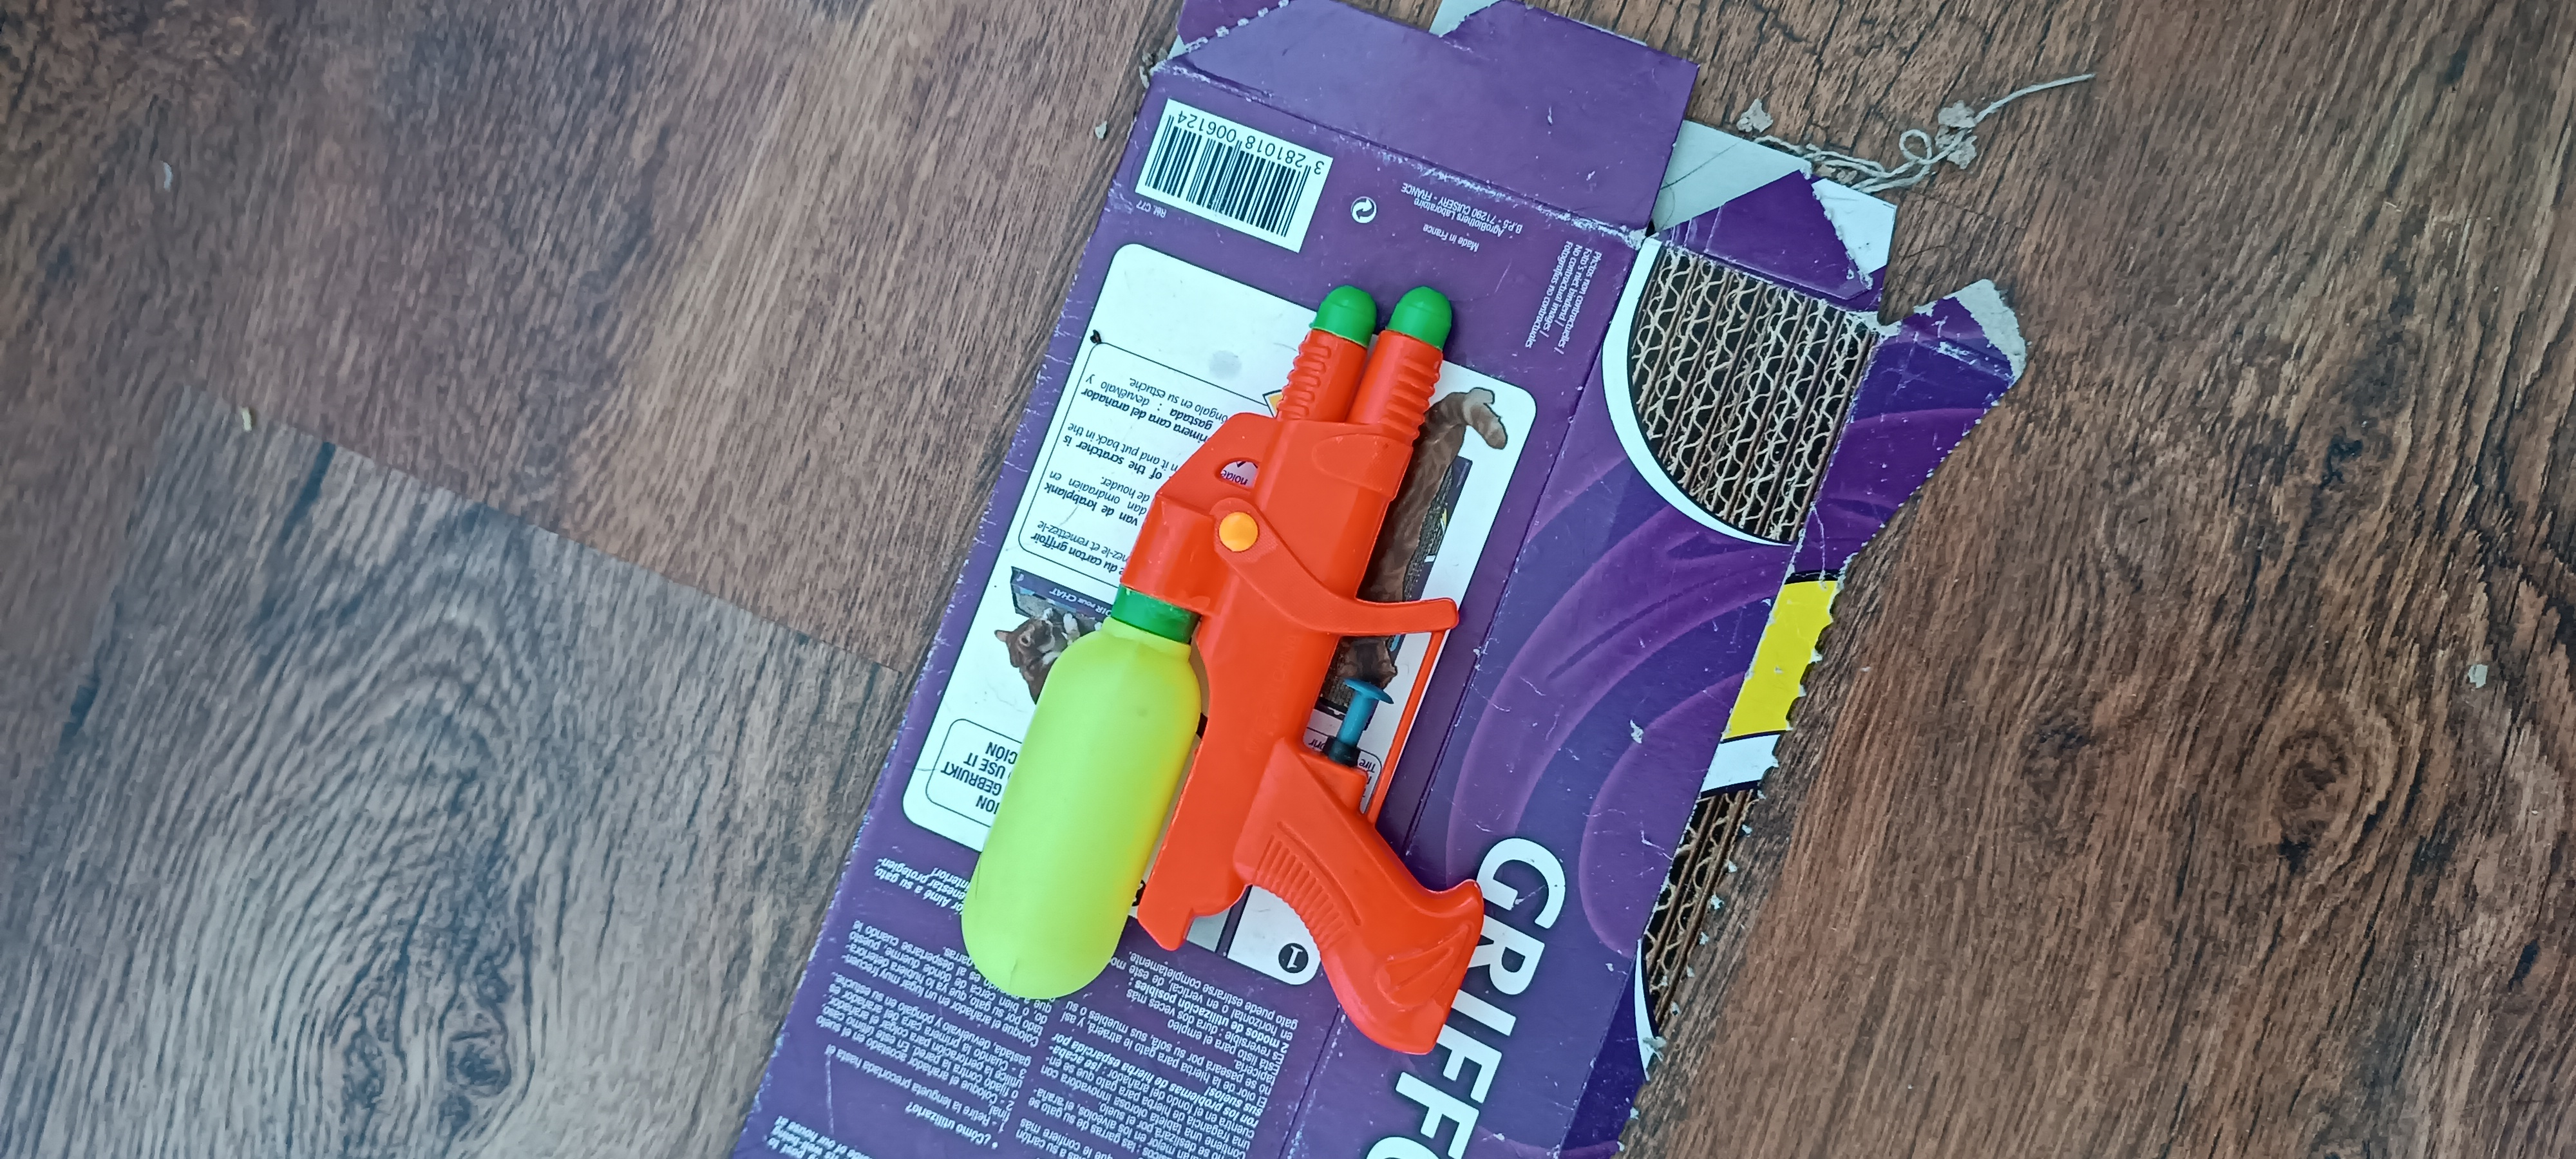Water Gun: (959, 286, 1485, 1061)
